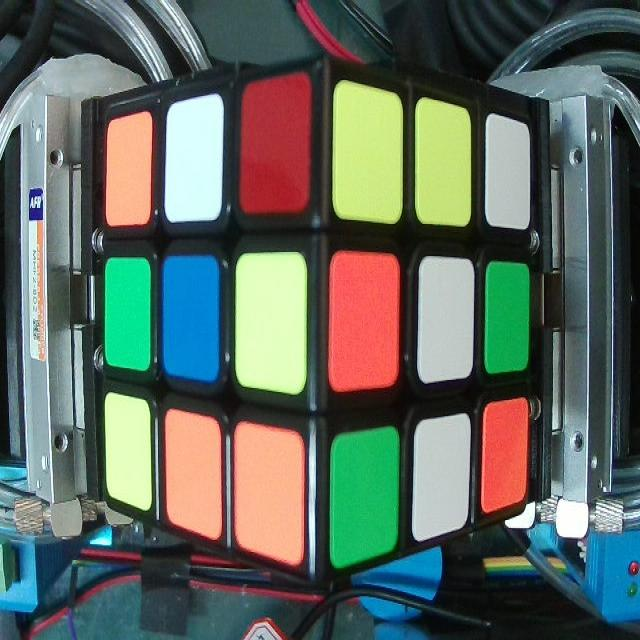b: (167, 261, 219, 381)
g: (331, 438, 394, 563), (106, 260, 152, 370), (487, 265, 528, 371)
o: (237, 424, 305, 560), (331, 252, 395, 388), (166, 410, 216, 534), (108, 123, 152, 225), (486, 406, 527, 504)
r: (244, 83, 306, 219)
w: (421, 255, 472, 379), (416, 421, 466, 536), (168, 104, 218, 219), (486, 112, 528, 232)
y: (333, 88, 402, 221), (237, 257, 306, 390), (418, 97, 468, 222), (105, 396, 151, 506)
